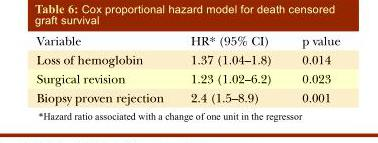table: (35, 35, 339, 104)
table column: (35, 35, 176, 104), (176, 35, 286, 104), (286, 35, 339, 104)
table column header: (35, 35, 339, 51)
table row: (35, 51, 339, 70), (35, 70, 339, 89), (35, 35, 339, 51), (35, 89, 339, 104)
